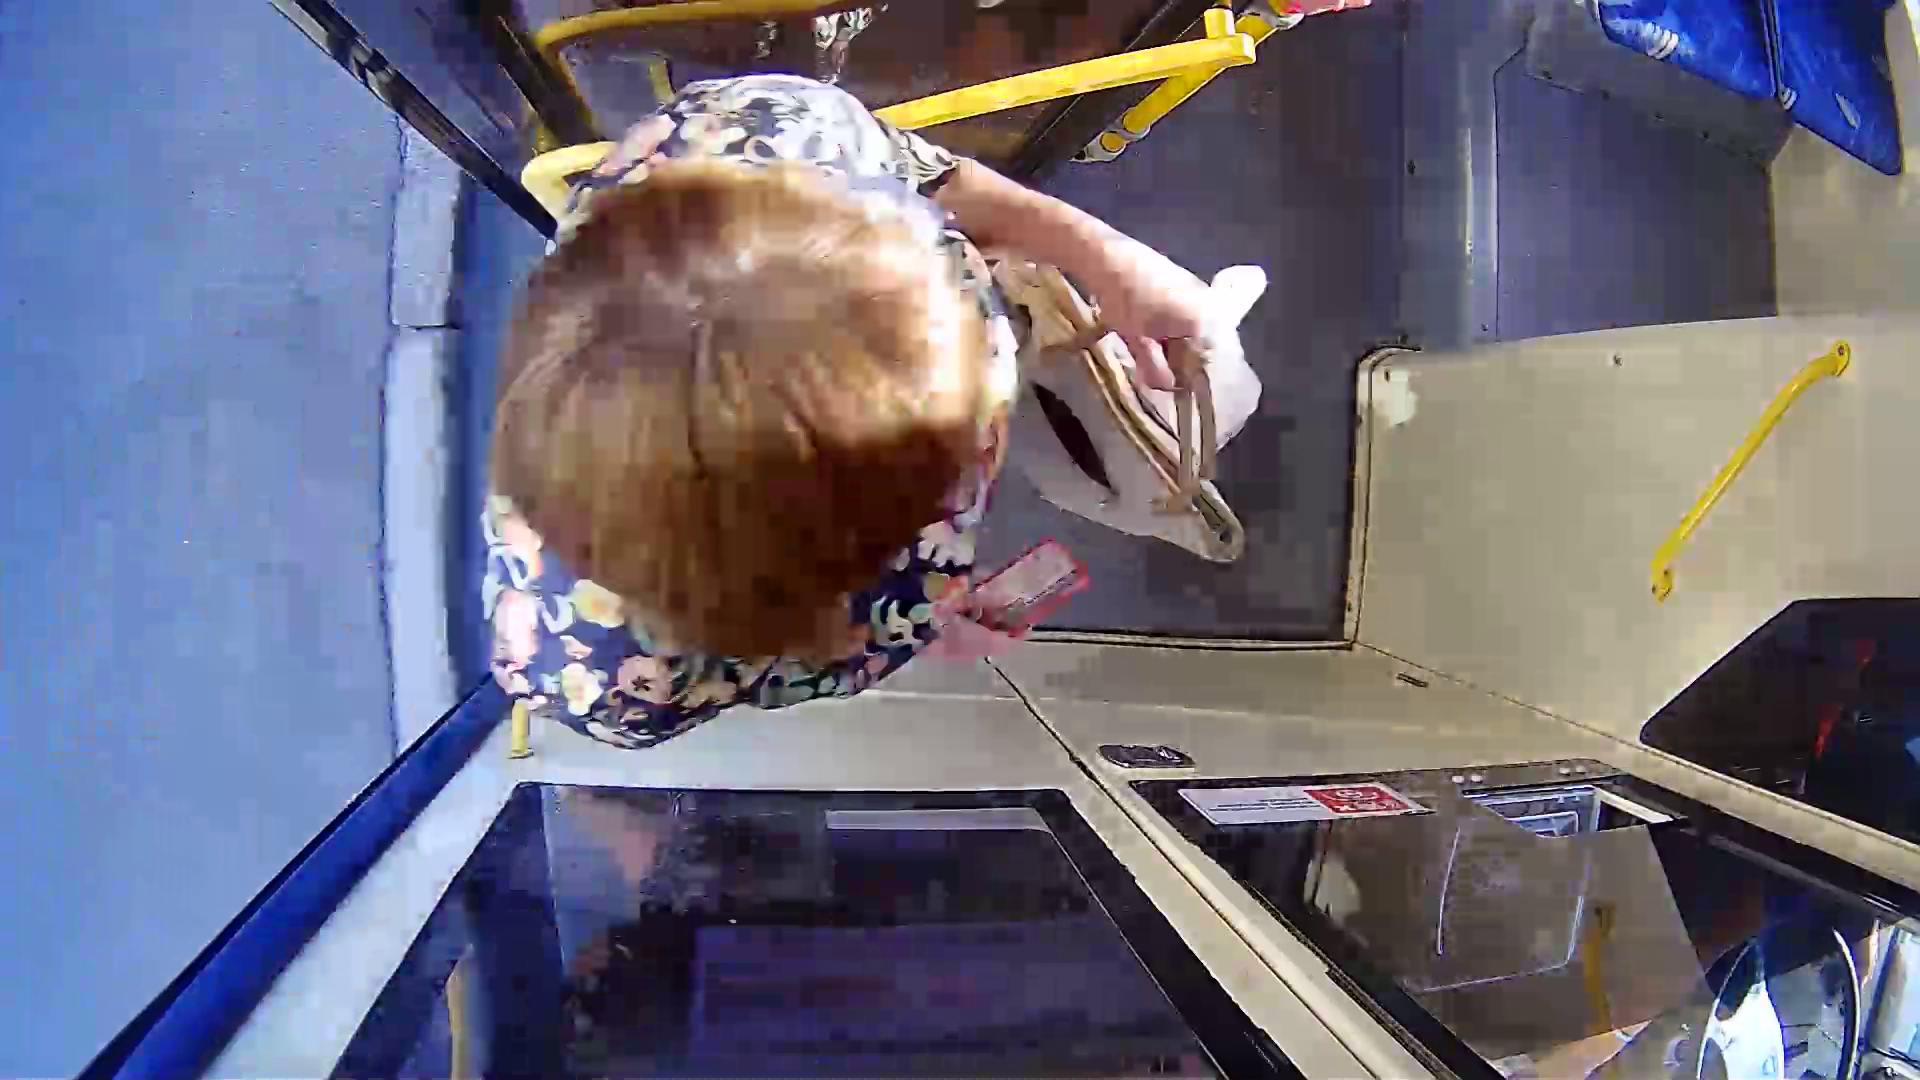person: (421, 64, 1296, 753)
